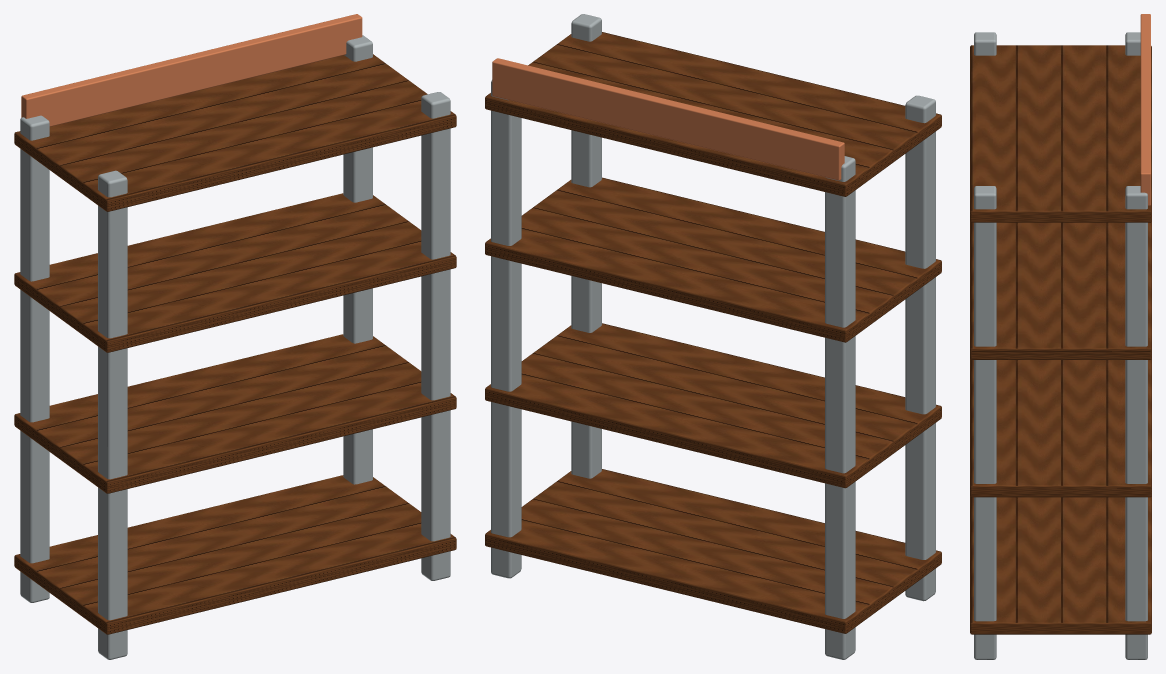
Rendered from salvage-and-repair-workshop-repaired-equipment-shelf-5d3e2433__25506.glb.
3 views of the same model, side by side, from view 1: azimuth 30°, elevation 25°; view 2: azimuth 150°, elevation 25°; view 3: azimuth 270°, elevation 25° (orthographic). The views are drawn at different scales.
Visible parts, largest first — view 1: repaired-equipment-shelf; view 2: repaired-equipment-shelf; view 3: repaired-equipment-shelf.
Part boxes in pixels (bbox=[...]): repaired-equipment-shelf: bbox=[14, 14, 456, 659]; repaired-equipment-shelf: bbox=[485, 14, 941, 659]; repaired-equipment-shelf: bbox=[970, 14, 1151, 659].
Bounding box in the file's own units: 1.3 × 1.77 × 0.6.
Materials: 3 (1 with a texture image).
